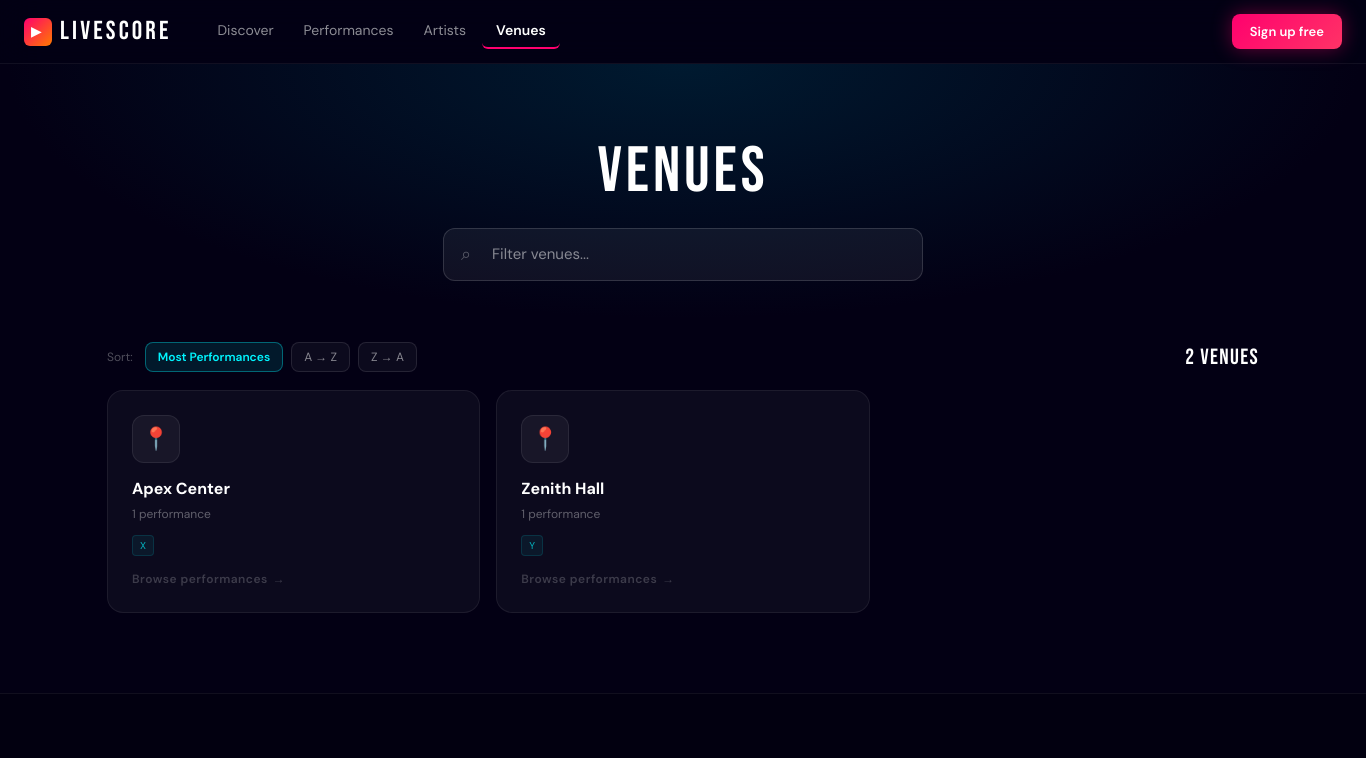
VenuesPage › filters by search text
This screenshot has width=1366, height=758.
Expected: the text "Apex Center" is shown, [132,478,230,498]
Expected: the text "Zenith Hall" is shown, [521,478,604,498]
Type "zen" into the field with placeholder "Filter venues..." at {"x": 683, "y": 254}, box [443,228,923,280]
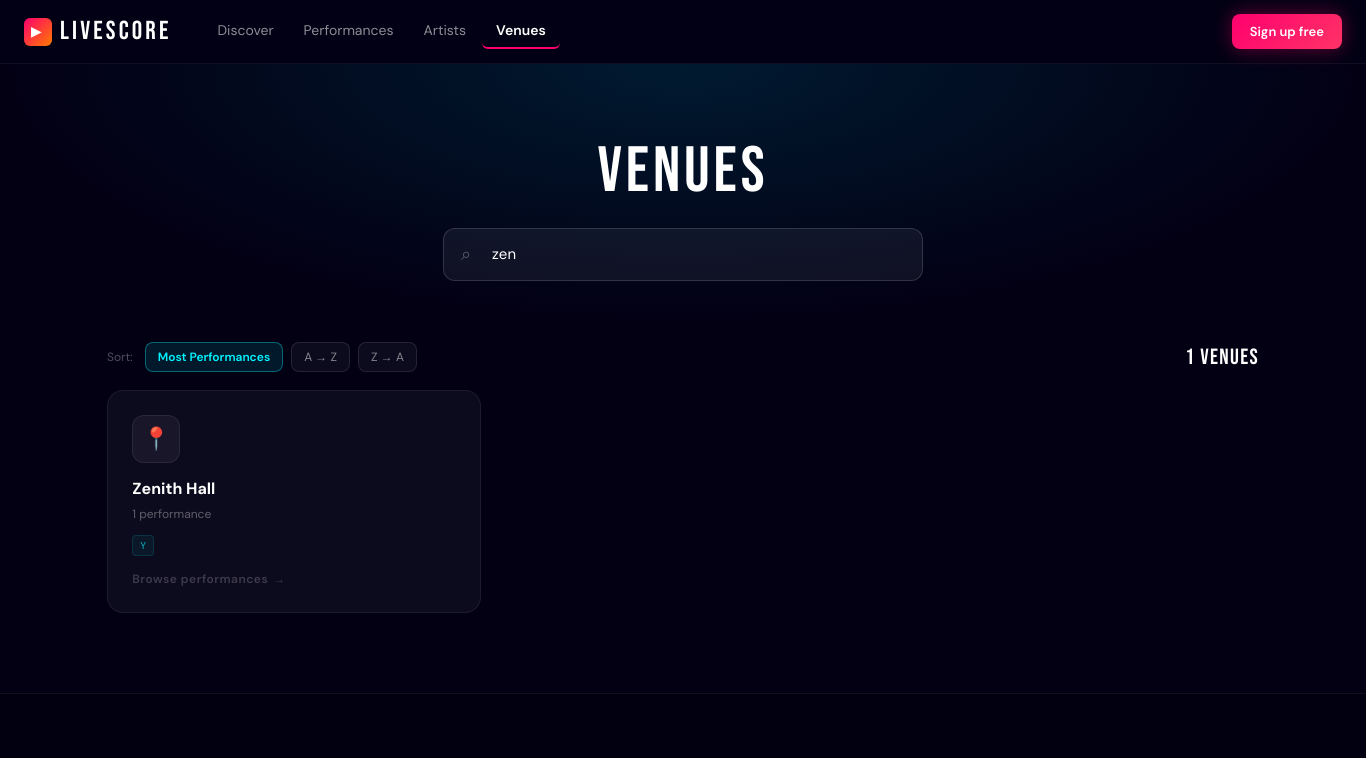
Expected: the text "Zenith Hall" is shown, [132,478,215,498]
Expected: the link "Apex Center" is gone
